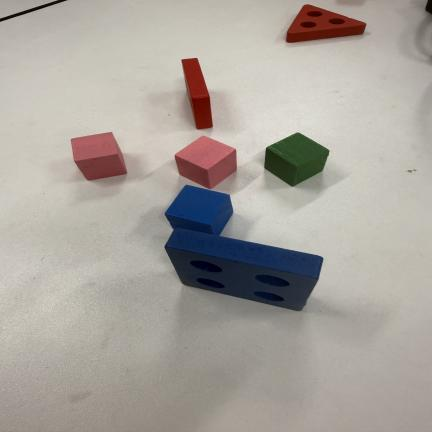BuildingBlocks: (166, 229, 322, 310), (265, 133, 329, 186), (165, 186, 233, 234), (175, 136, 236, 188), (287, 5, 366, 42), (71, 132, 127, 180), (182, 58, 212, 128), (426, 0, 431, 13)
